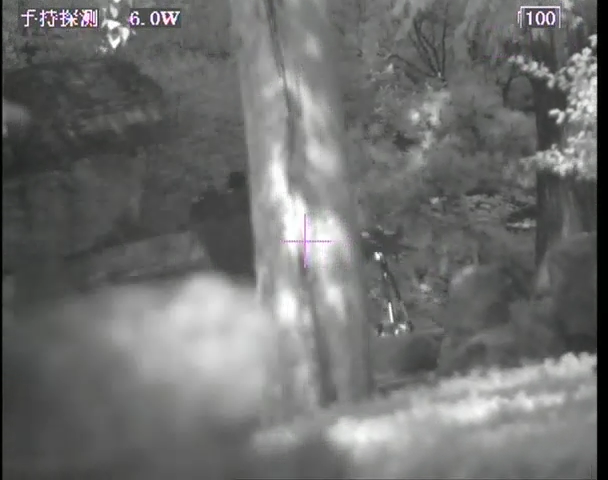my: (372, 248, 385, 263)
